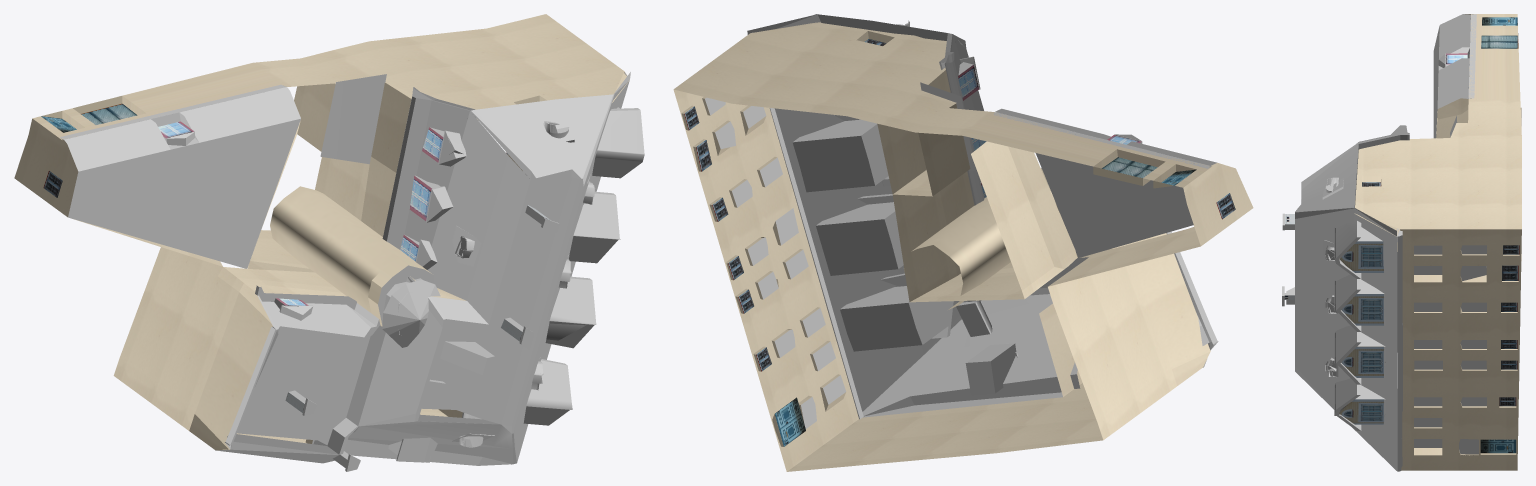
Rendered from Toom-Ryytli_7-origo.obj.
3 views of the same model, side by side, from view 1: azimuth 30°, elevation 25°; view 2: azimuth 150°, elevation 25°; view 3: azimuth 270°, elevation 25° (orthographic). The views are drawn at different scales.
Parts seen in each view (by area): view 1: Plane01; view 2: Plane01; view 3: Plane01.
Boxes of the visible parts, x1,y1,x2,y2 form: Plane01: (14, 14, 644, 471); Plane01: (673, 14, 1253, 471); Plane01: (1282, 14, 1521, 471).
Bounding box in the file's own units: 35.62 × 25 × 17.59.
